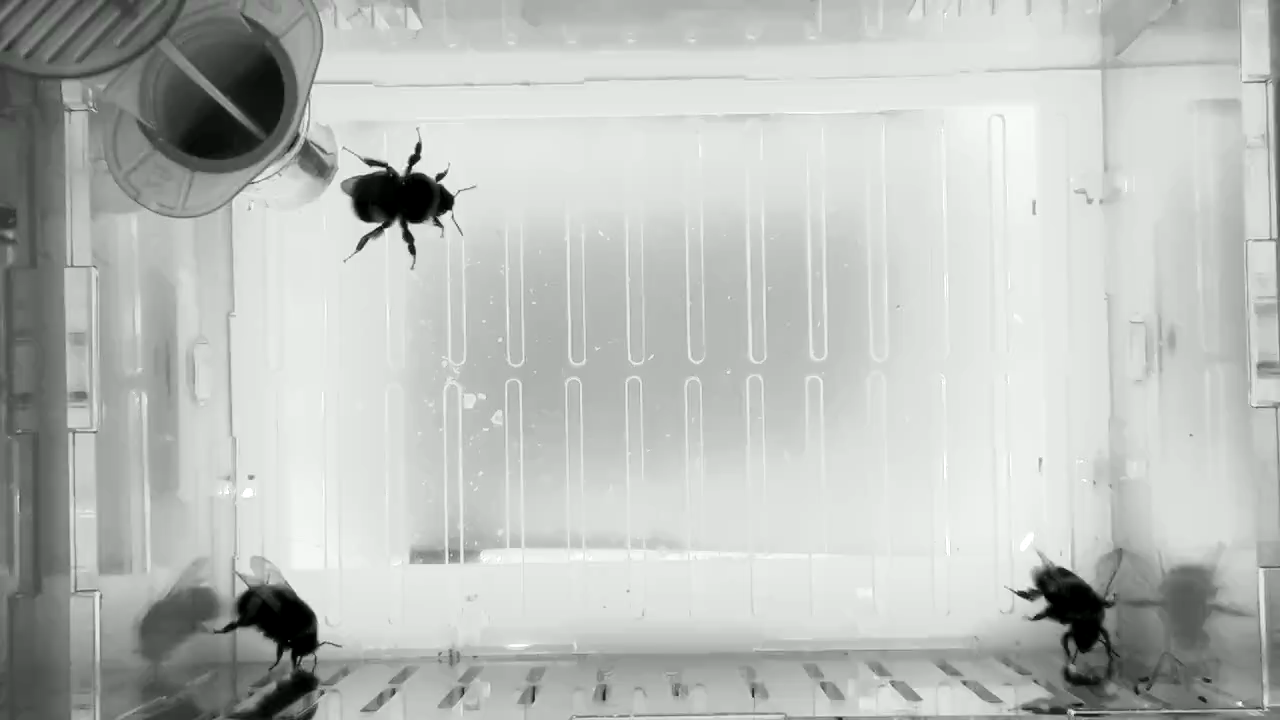bee: (336, 125, 481, 277), (208, 552, 347, 674), (1004, 542, 1128, 667)
feeder: (230, 99, 347, 216)
